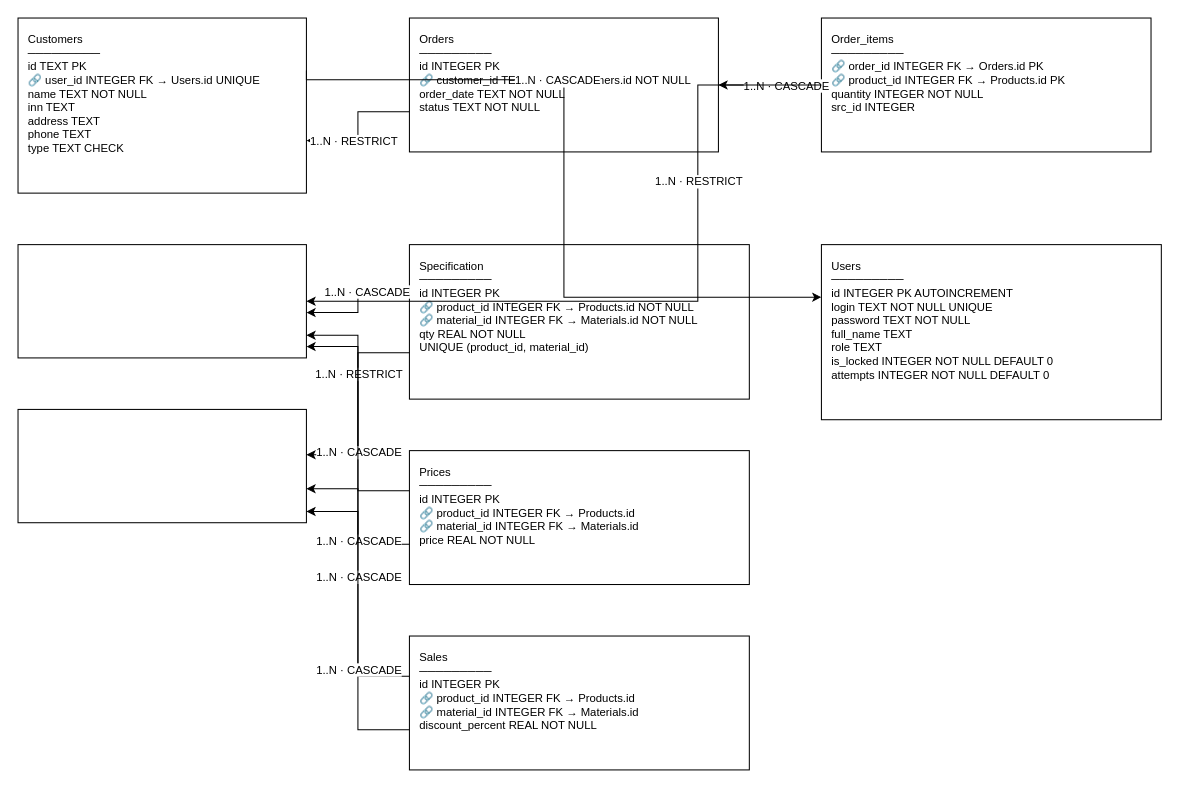
Some shapes in this 1179 by 788 pixel diagram are drawn without their labels. The centre of each missing label's shape, as x and y in pixels:
"Materials ───────── id INTEGER PK name TEXT NOT NULL type TEXT NOT NULL" belongs at point 161,465.
"Products ───────── id INTEGER PK name TEXT NOT NULL category TEXT NOT NULL" belongs at point 161,301.
